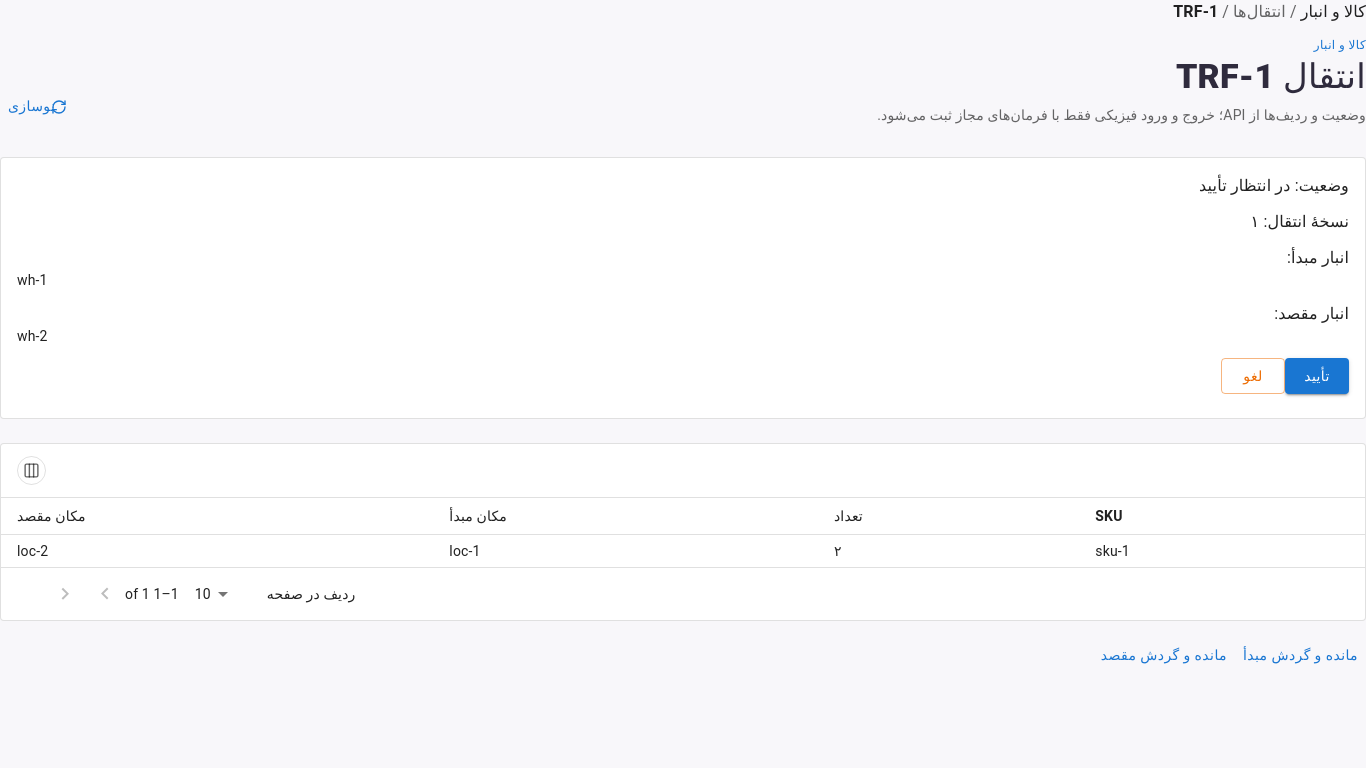
it: TransferDetailView › rechecks version and sends approval with a stable key
This screenshot has width=1366, height=768.
Click the button "تأیید" at (1317, 376), box [1285,358,1349,394]
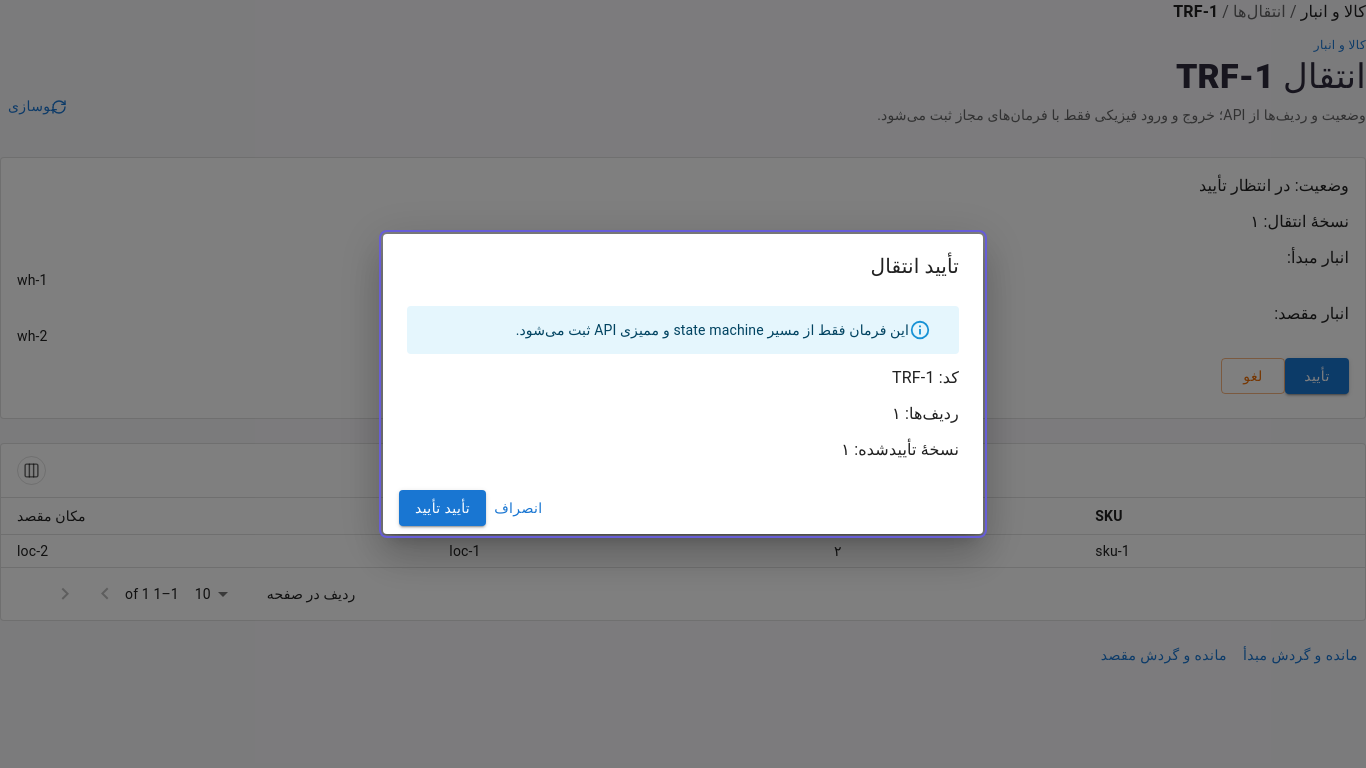
expect the text "نسخهٔ تأییدشده: ۱" is shown: met, box [841,440,959,459]
Click the button "تأیید تأیید" at (443, 508), box [399,490,486,526]
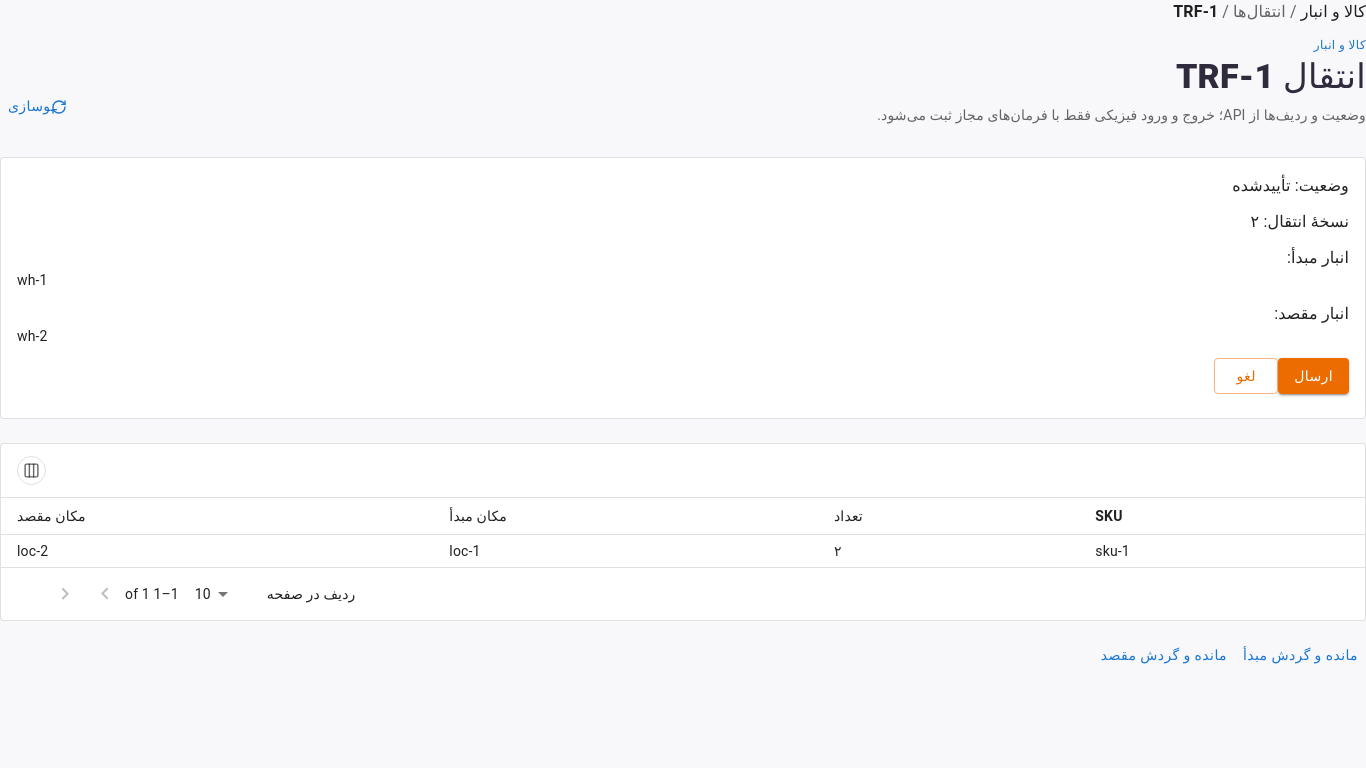
expect the text "وضعیت: تأییدشده" is shown: met, box [1232,176,1349,195]
